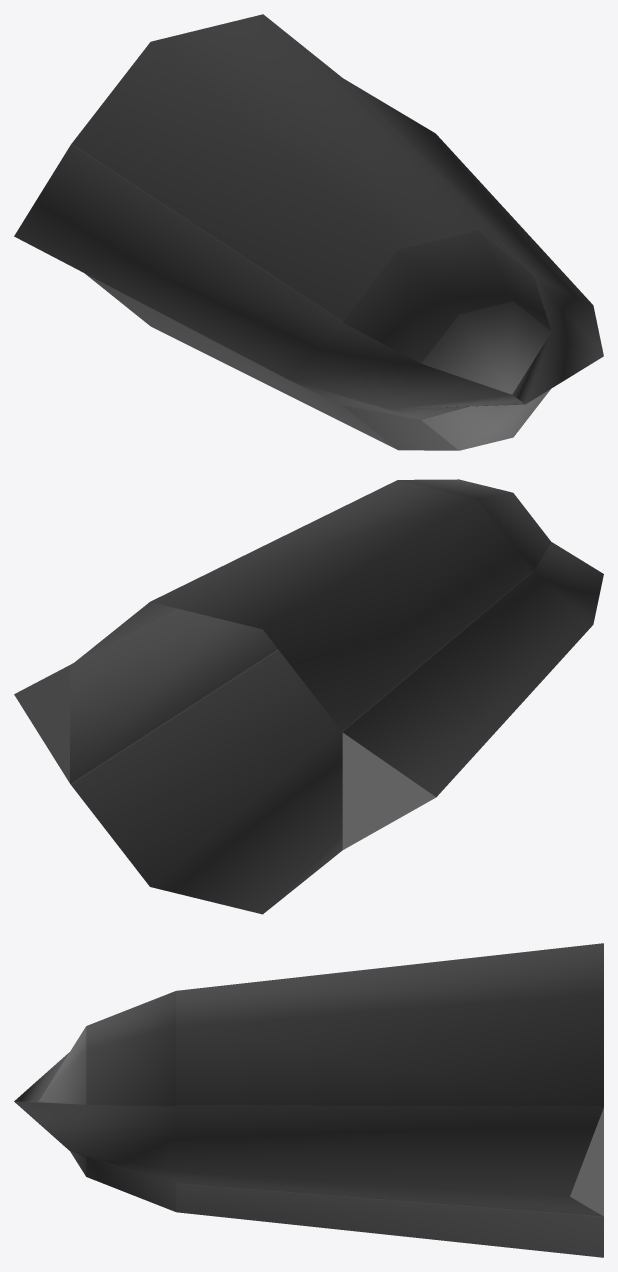
File: stat_top6.glb
3 views of the same model, one above another, from view 1: azimuth 30°, elevation 25°; view 2: azimuth 150°, elevation 25°; view 3: azimuth 270°, elevation 25° (orthographic). The views are drawn at different scales.
Visible parts, largest first — view 1: group_19; view 2: group_19; view 3: group_19.
Boxes of the visible parts, left/top/right/bottom form: group_19: left=14, top=14, right=603, bottom=450; group_19: left=14, top=479, right=603, bottom=914; group_19: left=14, top=943, right=603, bottom=1257.
Bounding box in the file's own units: 11733 × 7568 × 15342.
Materials: 2 (2 with a texture image).
